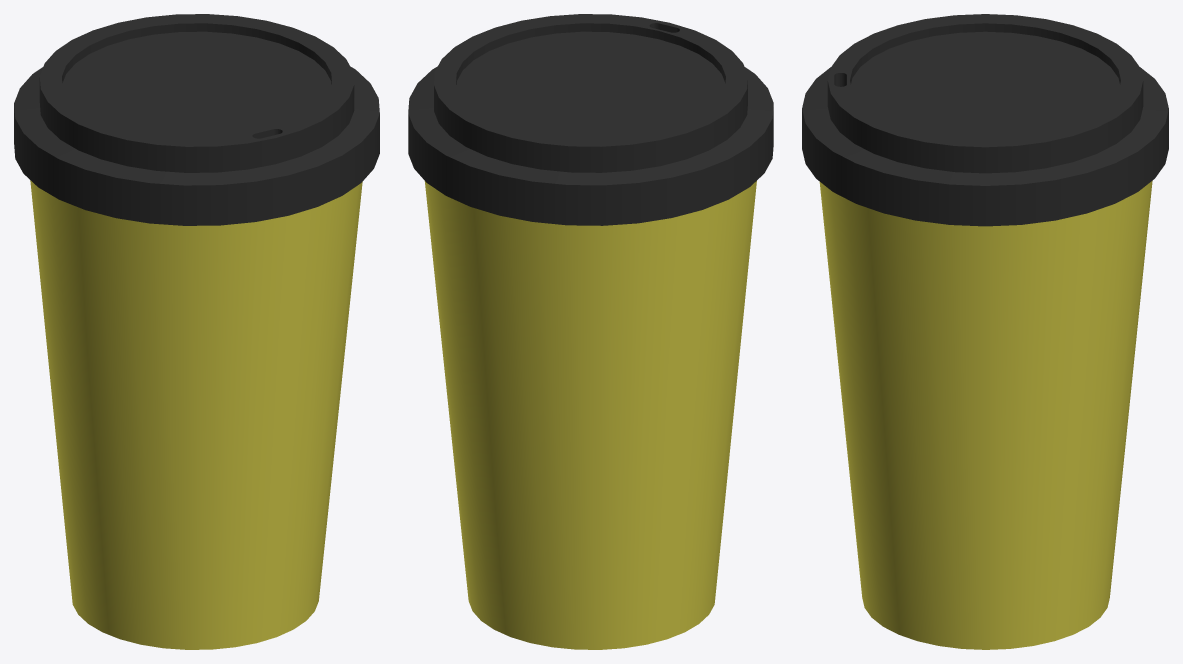
File: cof.glb
3 renders of one model, left to right at view 1: azimuth 30°, elevation 25°; view 2: azimuth 150°, elevation 25°; view 3: azimuth 270°, elevation 25°, orthographic.
Size of the model in its own units: 0.5387 by 0.8386 by 0.5387.
